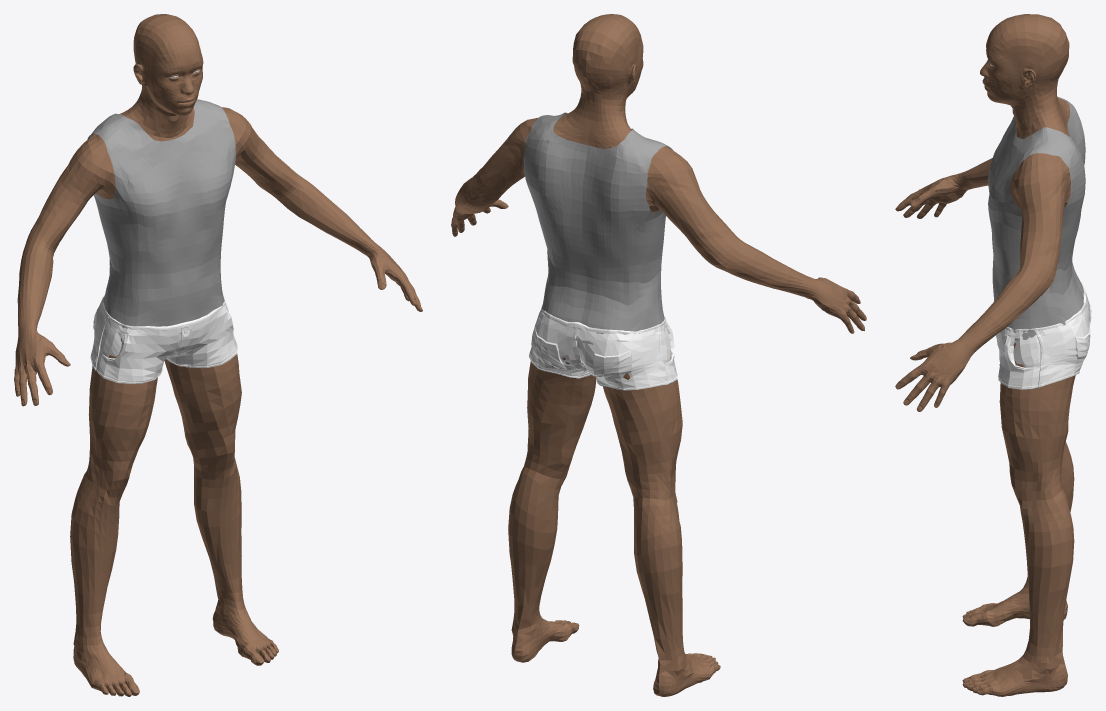
Rendered from tankm.obj.
The picture shows the model from 3 angles, left to right: view 1: azimuth 30°, elevation 25°; view 2: azimuth 150°, elevation 25°; view 3: azimuth 270°, elevation 25°; orthographic projection.
Visible parts, largest first — view 1: male_modelBody, tankm_Cube, male_model_short01; view 2: male_modelBody, tankm_Cube, male_model_short01; view 3: male_modelBody, tankm_Cube, male_model_short01.
Part boxes in pixels (x1,y1,x2,y2): male_modelBody: [14, 14, 422, 696]; tankm_Cube: [87, 99, 235, 334]; male_model_short01: [90, 295, 237, 383]; male_modelBody: [451, 14, 866, 696]; tankm_Cube: [523, 112, 672, 344]; male_model_short01: [529, 305, 677, 390]; male_modelBody: [895, 14, 1076, 696]; tankm_Cube: [988, 97, 1088, 340]; male_model_short01: [993, 282, 1091, 389].
Bounding box in the file's own units: 11.33 × 17.35 × 4.83.
